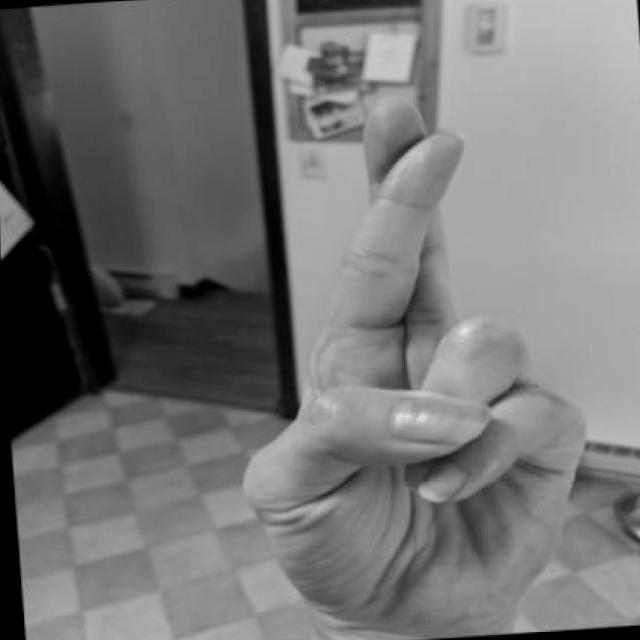R: (237, 95, 597, 640)
